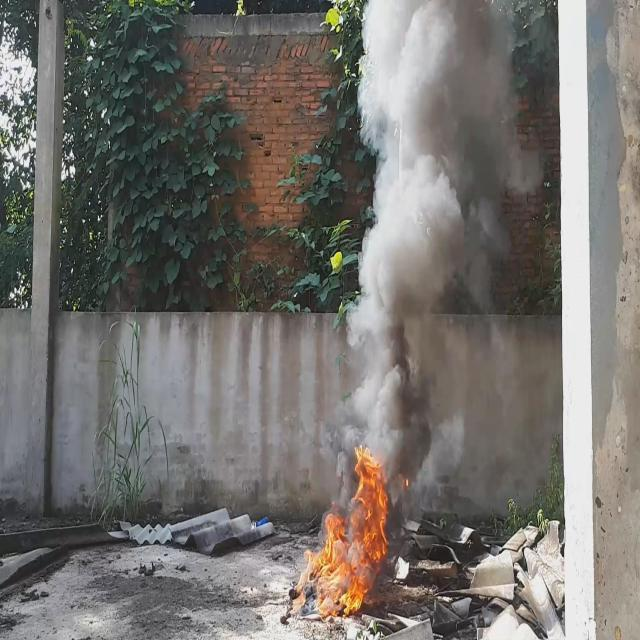Fire: (314, 440, 390, 616)
Smoke: (346, 0, 516, 479)
